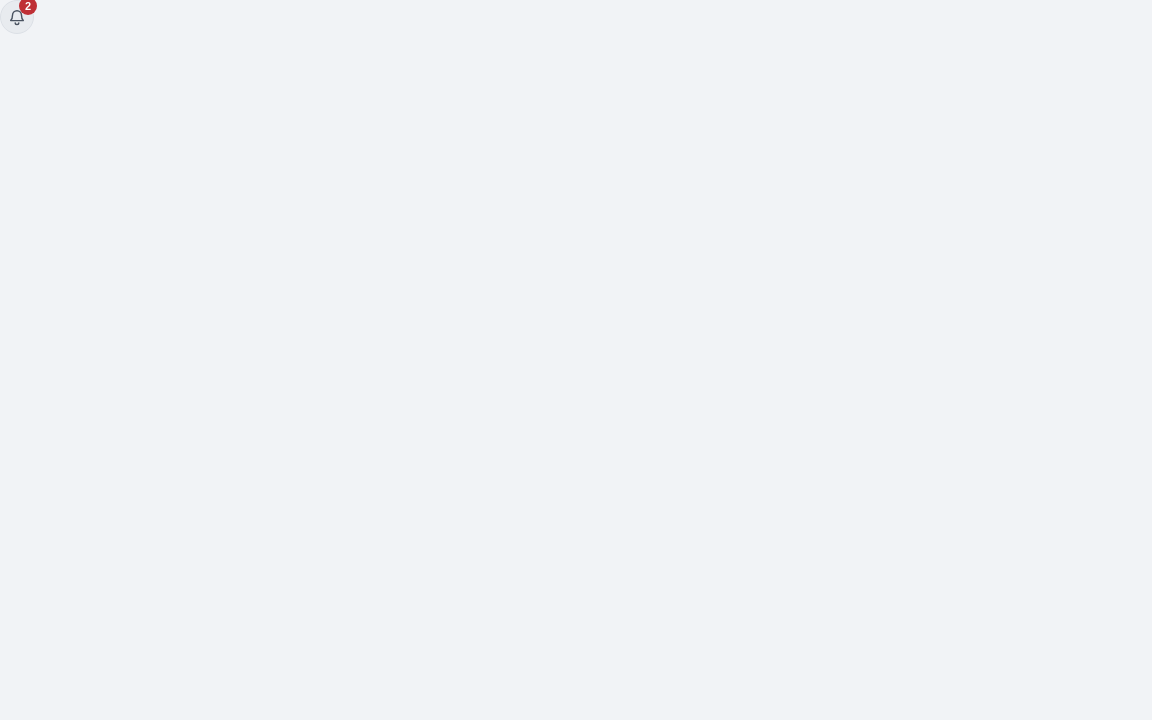
Test: notification bell (S5#6) › shows the unread count and the newest, and opening one marks it read
Later steps or results of the test are not shown.
Click the button named "Notifications, 2 unread" at [17, 17], box top-left (0, 0), bottom-right (34, 34)
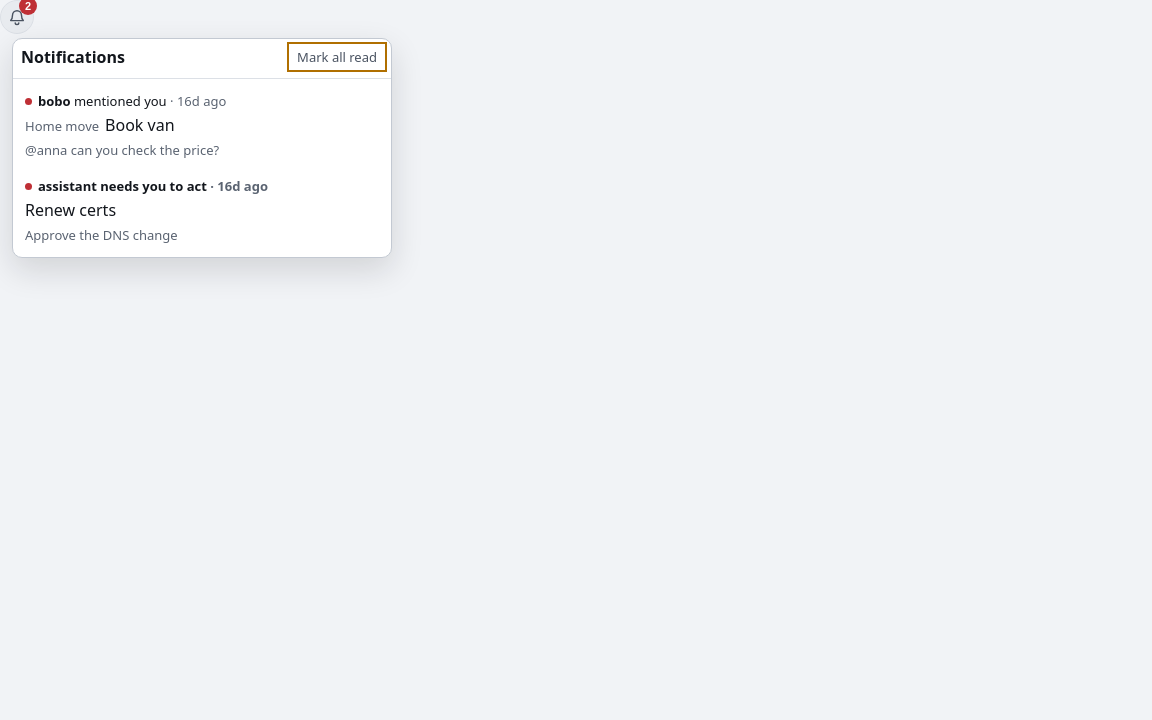
Expected: the link that starts with "bobo" shows "bobo mentioned you", top-left (25, 92), bottom-right (226, 159)
Expected: the link that starts with "assistant" shows "assistant needs you to act", top-left (25, 177), bottom-right (268, 244)
Expected: the link that starts with "assistant" shows "Approve the DNS change", top-left (25, 177), bottom-right (268, 244)
